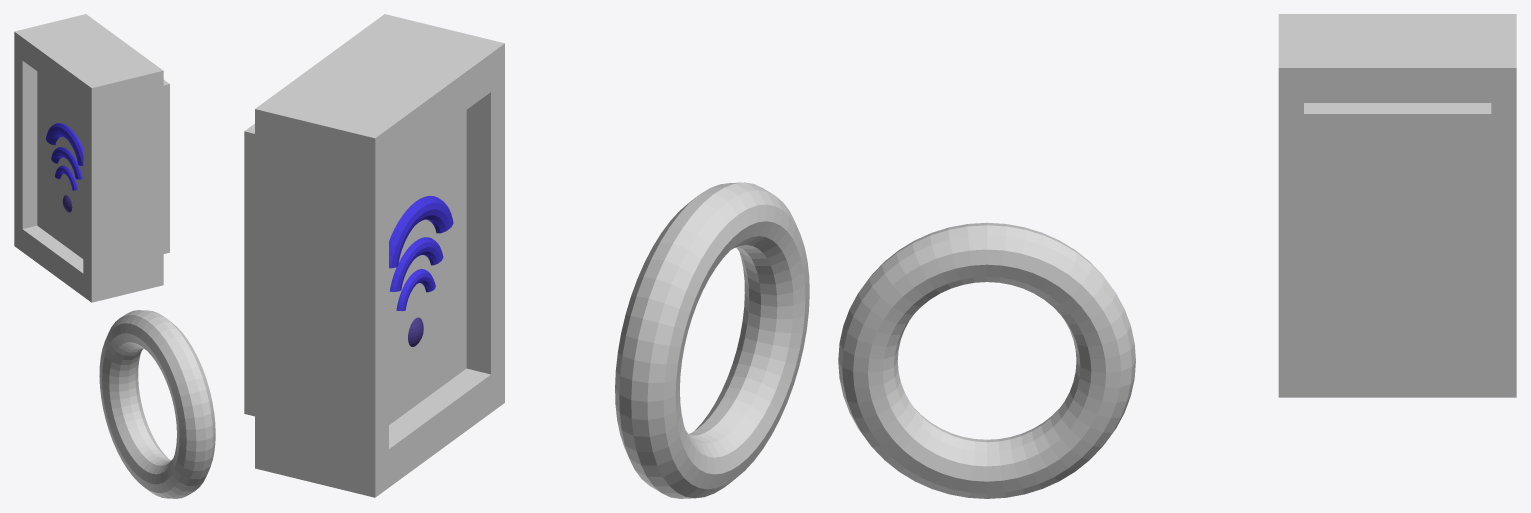
The model's file is Wifi Box.glb.
3 renders of one model, left to right at view 1: azimuth 30°, elevation 25°; view 2: azimuth 150°, elevation 25°; view 3: azimuth 270°, elevation 25°, orthographic. The views are drawn at different scales.
Visible parts, largest first — view 1: Cube, Cube.003, Cube.002, Cube.001; view 2: Cube, Cube.003, Cube.002, Cube.001; view 3: Cube.
Boxes of the visible parts, box(x1,y1,x2,y2) form: Cube: box(14, 14, 215, 498); Cube.003: box(46, 123, 83, 165); Cube.002: box(51, 147, 82, 179); Cube.001: box(55, 165, 77, 190); Cube: box(244, 14, 809, 498); Cube.003: box(389, 195, 453, 268); Cube.002: box(389, 237, 443, 291); Cube.001: box(396, 269, 435, 311); Cube: box(838, 14, 1516, 498).
Bounding box in the file's own units: 1.98 × 4.66 × 5.7.
